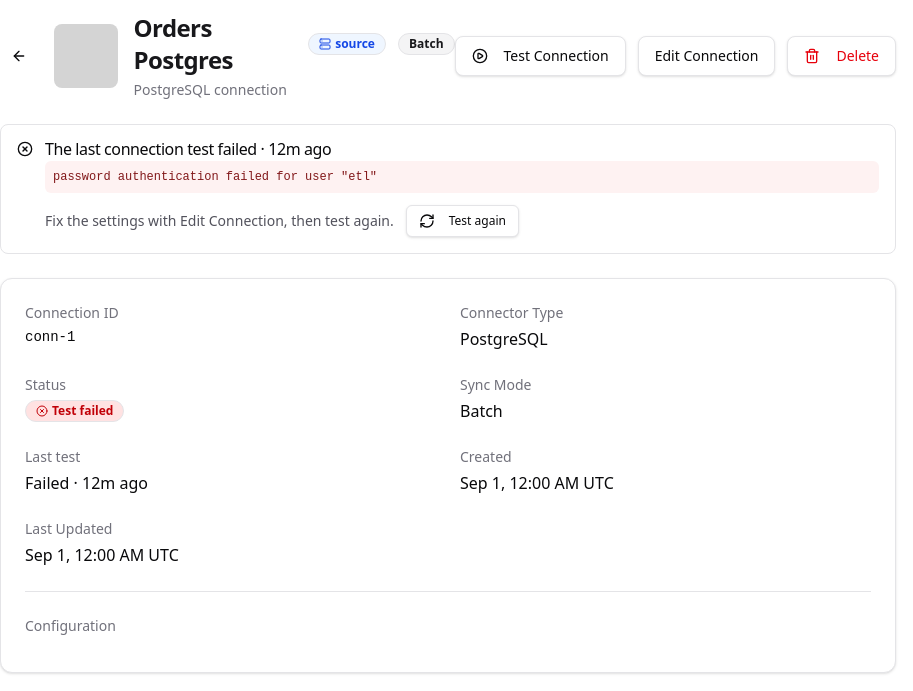
Test: connection page — last test error › shows the stored error, and clears it when a re-test passes
Expected: the heading "Orders Postgres" is shown, [134,11,233,76]
Expected: the message with test id "connection-last-test-failed" shows "password authentication failed for user \"etl\"", [53,170,377,184]
Click the button "Test again".
click(462, 221)  # box [406,205,519,237]
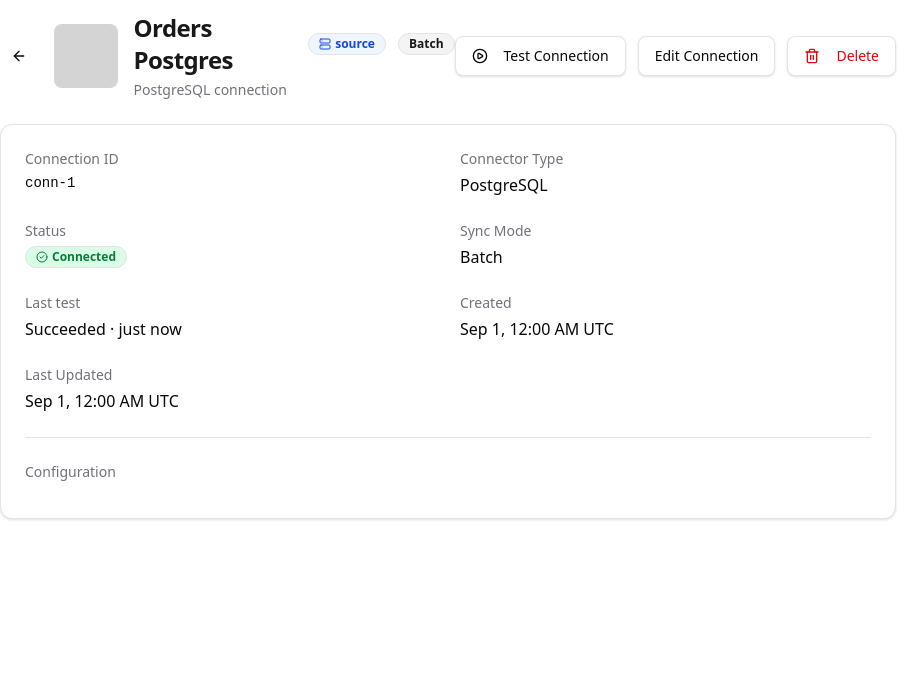
Now the message with test id "connection-last-test-failed" is gone
Now the text with test id "connection-last-test" reads "Succeeded · just now", box [25,318,182,340]
